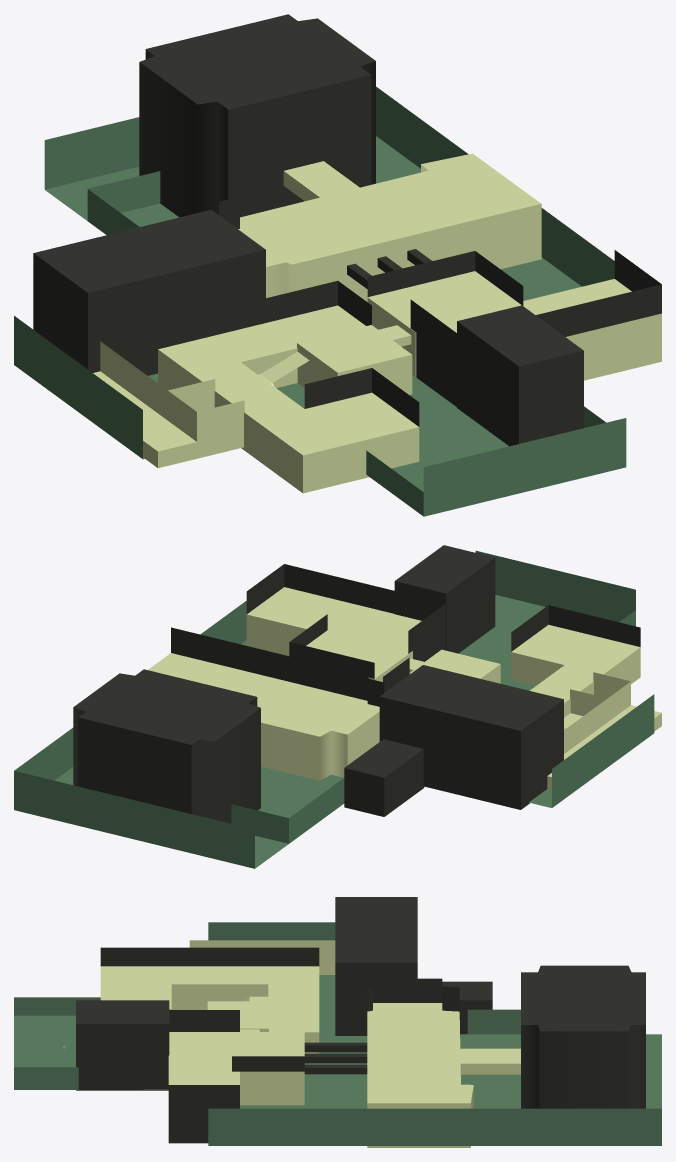
File: MapUnity.fbx
3 renders of one model, top to bottom at view 1: azimuth 30°, elevation 25°; view 2: azimuth 150°, elevation 25°; view 3: azimuth 270°, elevation 25°, orthographic. The views are drawn at different scales.
Visible parts, largest first — view 1: Floor, pCube10, pCube2, pCube8, pCube7, pCube1, pCube5, pCube6, pCube4, pCube3, pCube12; view 2: Floor, pCube10, pCube7, pCube8, pCube5, pCube2, pCube1, pCube9, pCube4, pCube6, pCube3; view 3: Floor, pCube10, pCube2, pCube8, pCube7, pCube1, pCube5, pCube4, pCube12, pCube6, pasted__pCube14 (×2), pCube9 (+2 smaller).
Boxes of the visible parts, x1=… form: Floor: x1=14, y1=86, x2=626, y2=516; pCube10: x1=139, y1=14, x2=375, y2=217; pCube2: x1=158, y1=280, x2=419, y2=493; pCube8: x1=219, y1=153, x2=541, y2=301; pCube7: x1=33, y1=210, x2=265, y2=375; pCube1: x1=457, y1=305, x2=583, y2=446; pCube5: x1=410, y1=250, x2=661, y2=406; pCube6: x1=93, y1=341, x2=244, y2=468; pCube4: x1=367, y1=251, x2=523, y2=377; pCube3: x1=297, y1=325, x2=412, y2=394; pCube12: x1=283, y1=161, x2=359, y2=201; Floor: x1=14, y1=550, x2=654, y2=868; pCube10: x1=73, y1=669, x2=260, y2=823; pCube7: x1=379, y1=665, x2=563, y2=809; pCube8: x1=148, y1=627, x2=384, y2=780; pCube5: x1=246, y1=564, x2=445, y2=661; pCube2: x1=383, y1=605, x2=640, y2=717; pCube1: x1=394, y1=545, x2=495, y2=653; pCube9: x1=344, y1=739, x2=424, y2=816; pCube4: x1=289, y1=614, x2=412, y2=681; pCube6: x1=547, y1=672, x2=661, y2=789; pCube3: x1=409, y1=649, x2=500, y2=683; Floor: x1=14, y1=922, x2=661, y2=1145; pCube10: x1=521, y1=965, x2=645, y2=1108; pCube2: x1=100, y1=947, x2=319, y2=1053; pCube8: x1=367, y1=978, x2=473, y2=1147; pCube7: x1=335, y1=897, x2=417, y2=1035; pCube1: x1=76, y1=1000, x2=169, y2=1090; pCube5: x1=168, y1=1010, x2=239, y2=1143; pCube4: x1=232, y1=1032, x2=304, y2=1105; pCube12: x1=460, y1=1048, x2=520, y2=1074; pCube6: x1=189, y1=940, x2=335, y2=974; pasted__pCube14 (×2): x1=304, y1=1053, x2=367, y2=1074; pCube9: x1=442, y1=981, x2=492, y2=1034.
Size of the model in its own units: 60.5 by 15.41 by 88.99.
